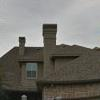Chimney: (35, 18, 58, 51)
